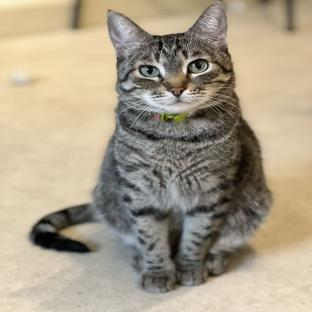Animal: (30, 1, 271, 292)
